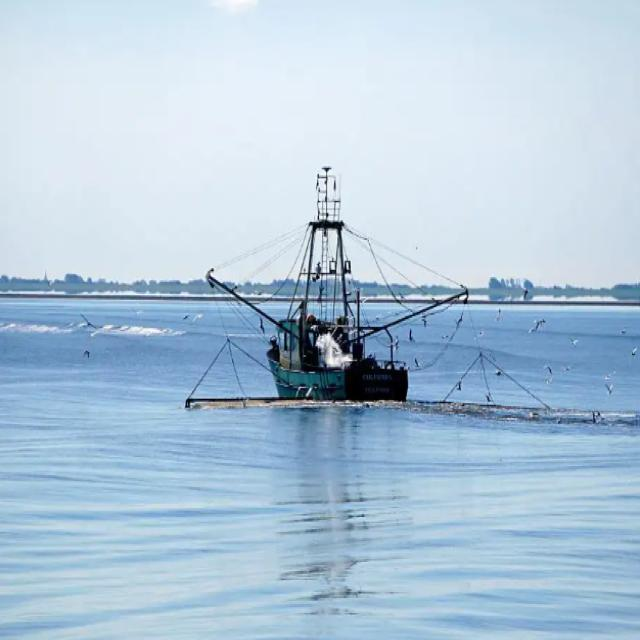fishing boat: (214, 174, 408, 400)
